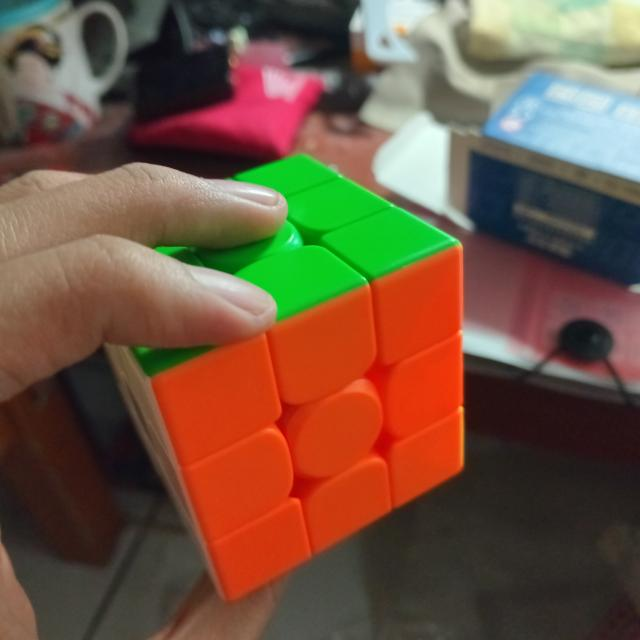left: (151, 246, 464, 602)
rubik: (103, 151, 468, 612)
